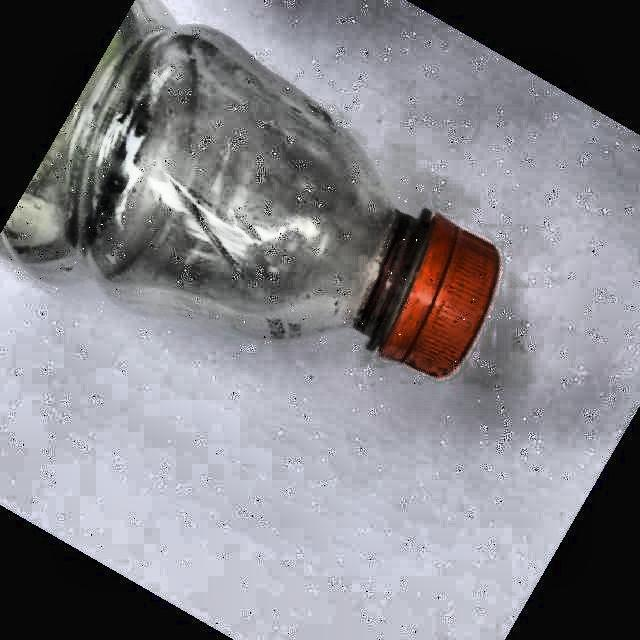plastic: (0, 0, 500, 377)
